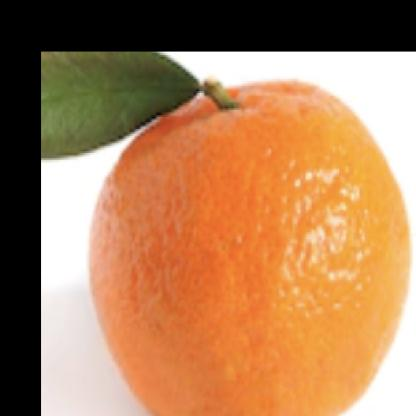fresh: (93, 80, 407, 416)
